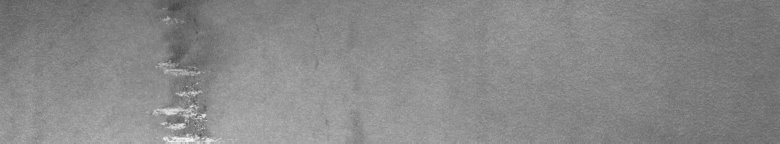hc: (146, 4, 210, 136)
